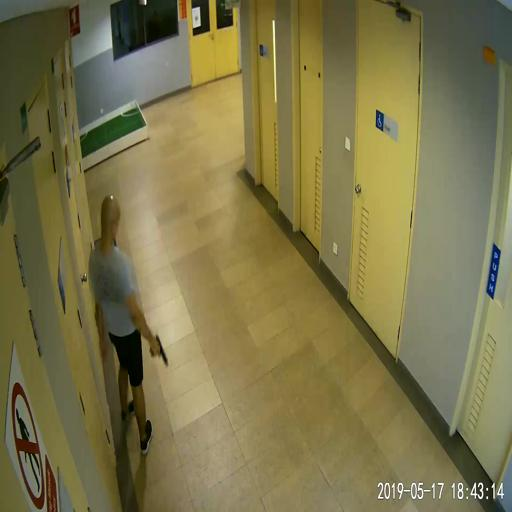pistol: (150, 334, 168, 365)
